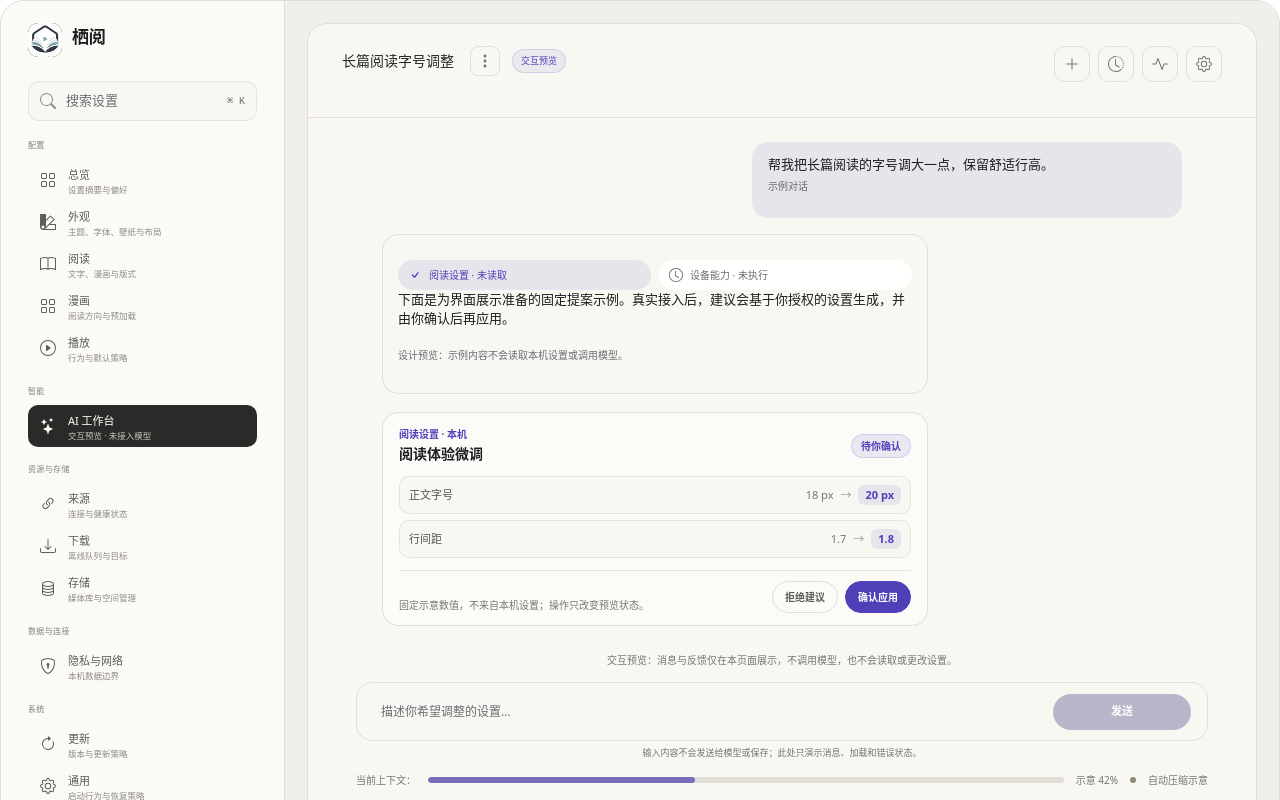
it: AIWorkbenchPreviewPage › opens a keyboard-accessible session action menu
Click the button named "会话操作" at (485, 61), box x1=470 y1=46 x2=500 y2=76
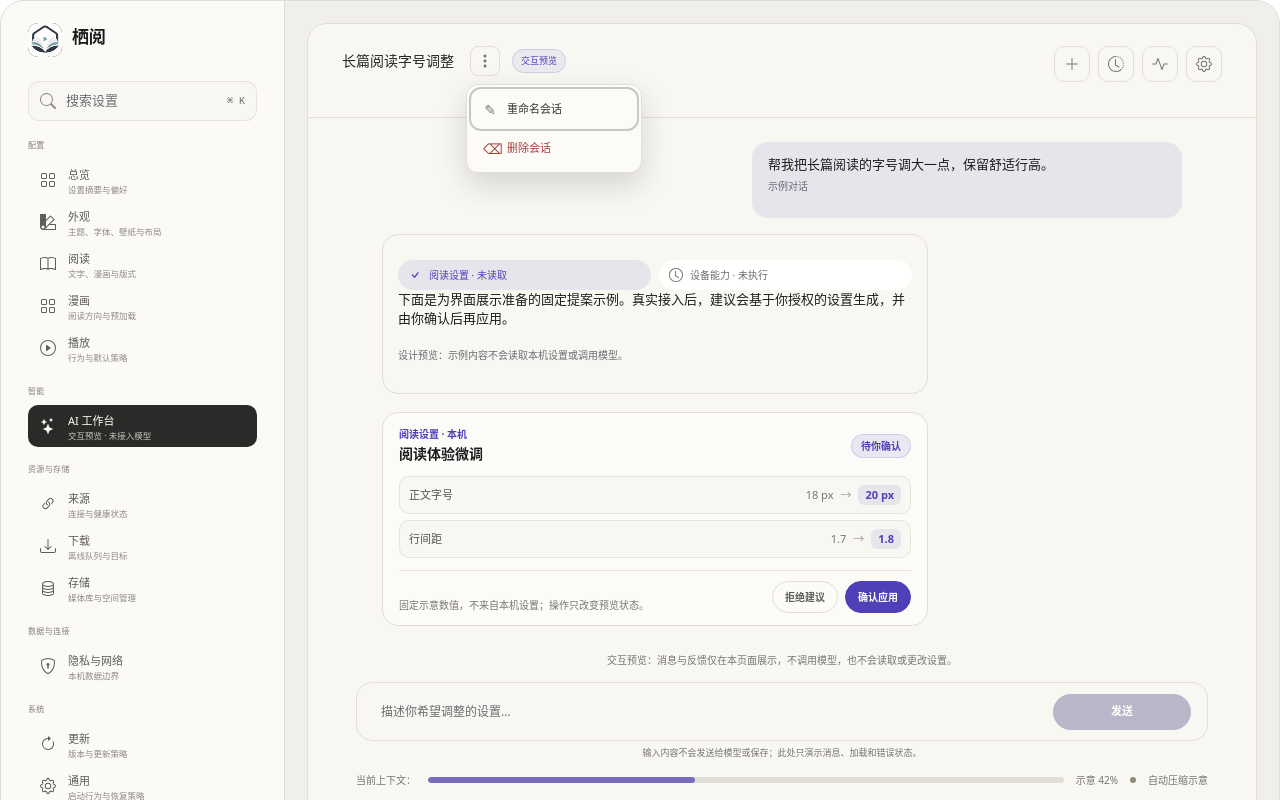
Press ArrowDown in the menu, box x1=466 y1=84 x2=642 y2=173
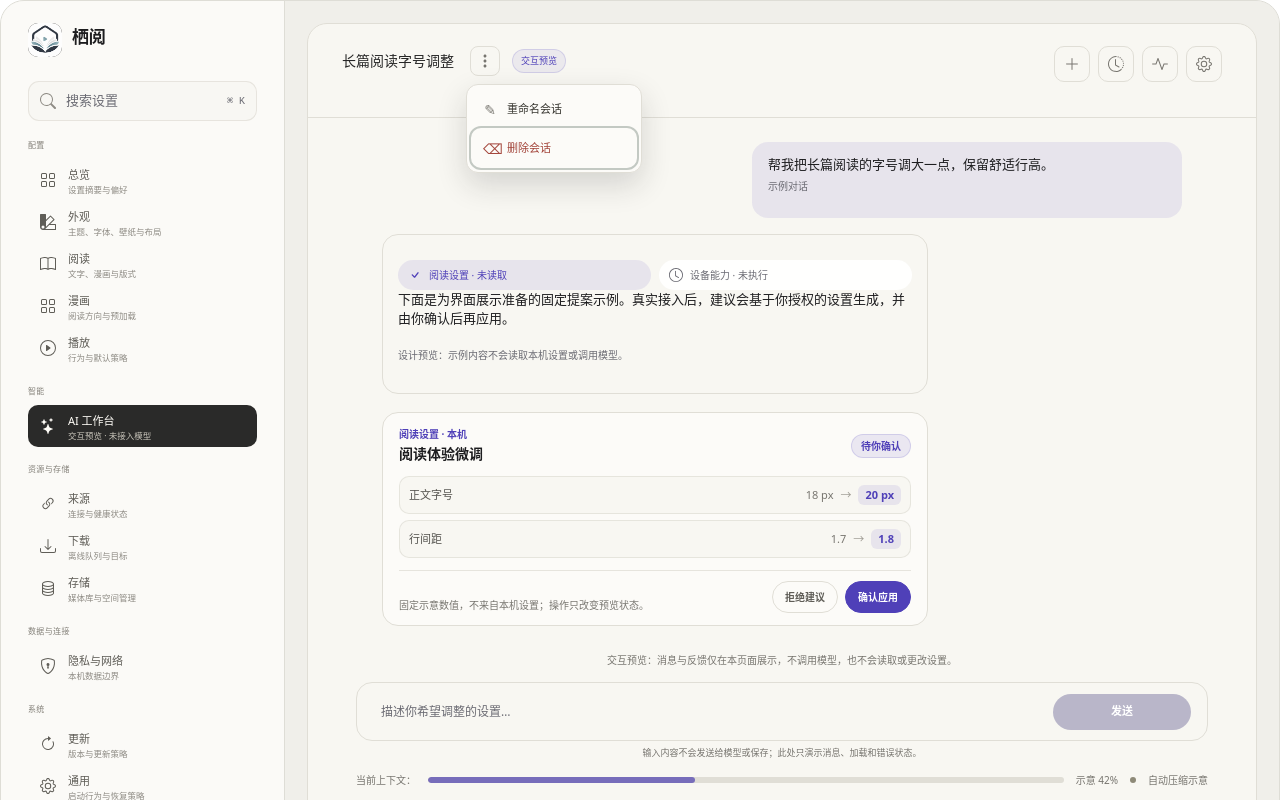
Press Escape in the menu, box x1=466 y1=84 x2=642 y2=173
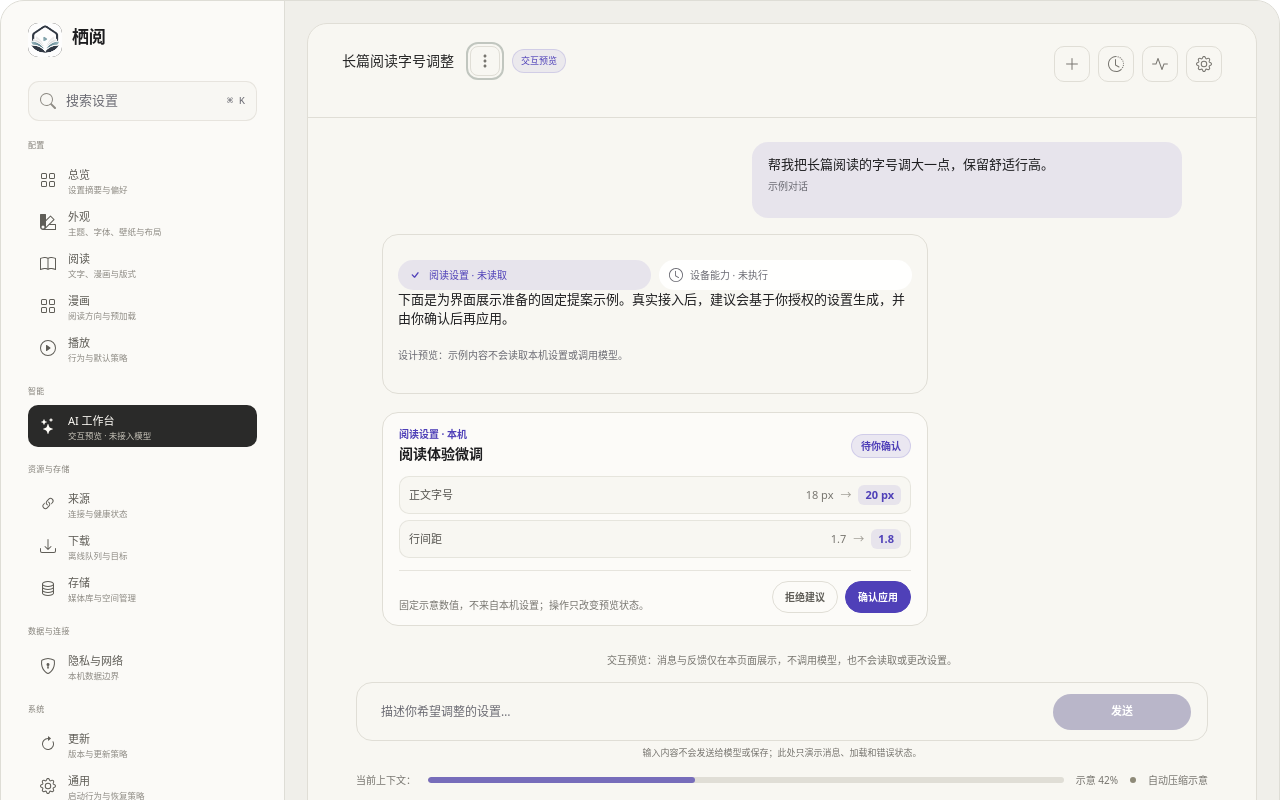
Now the menu is gone
